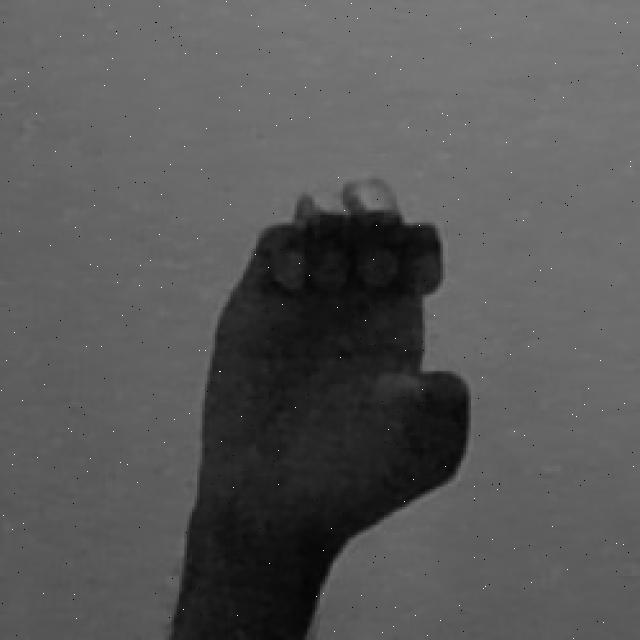E: (166, 176, 470, 640)
